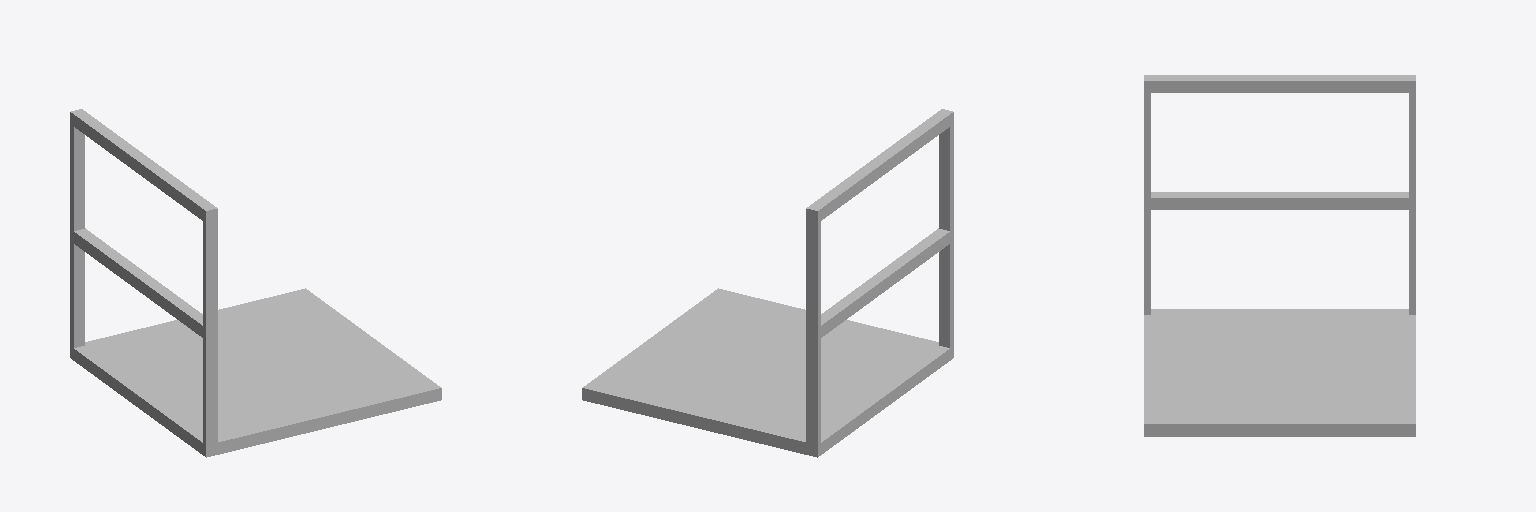
The model's file is platform side.obj.
3 renders of one model, left to right at view 1: azimuth 30°, elevation 25°; view 2: azimuth 150°, elevation 25°; view 3: azimuth 270°, elevation 25°, orthographic.
Parts seen in each view (by area): view 1: object 1; view 2: object 1; view 3: object 1.
Part boxes in pixels (x1,y1,x2,y2): object 1: (70,109,441,457); object 1: (582,109,953,457); object 1: (1144,75,1415,436).
Size of the model in its own units: 4 by 4 by 4.